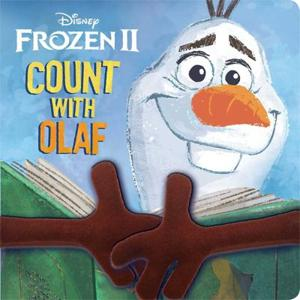olaf: (150, 7, 292, 273)
